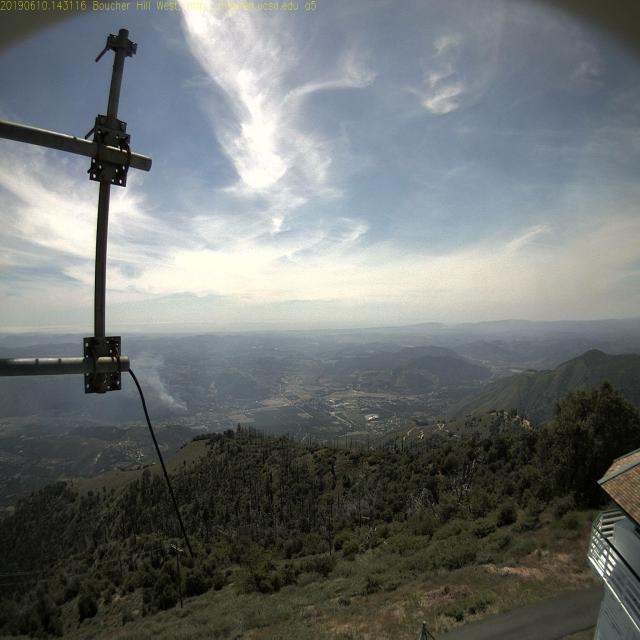smoke: (164, 386, 201, 428)
